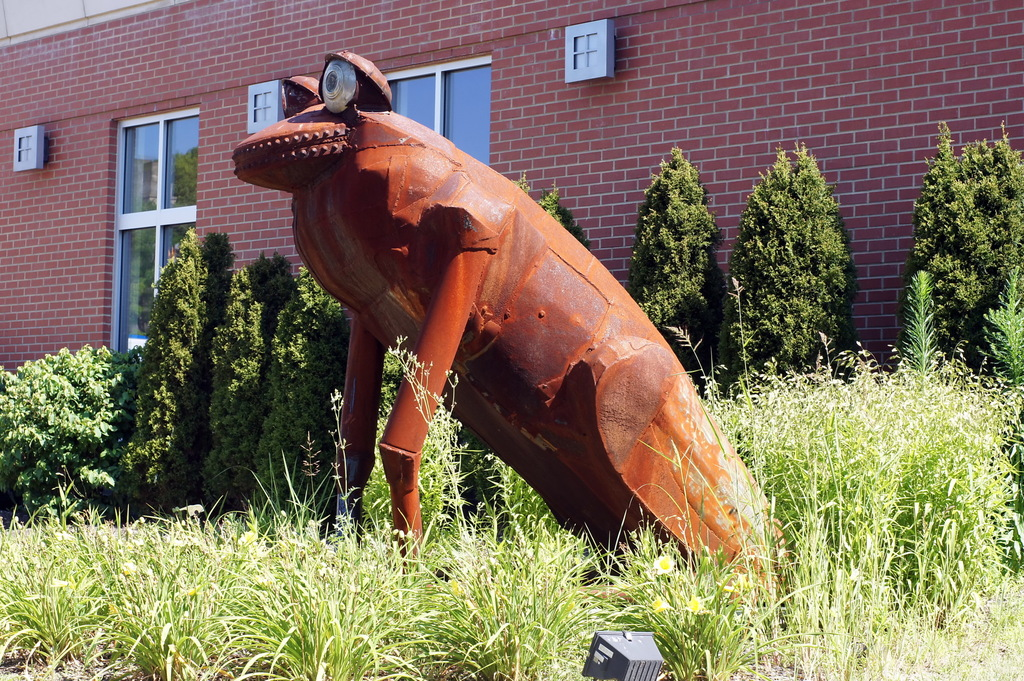Animal: (229, 47, 791, 621)
